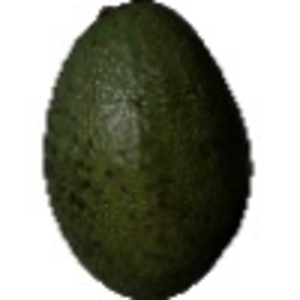abacate: (41, 1, 253, 295)
